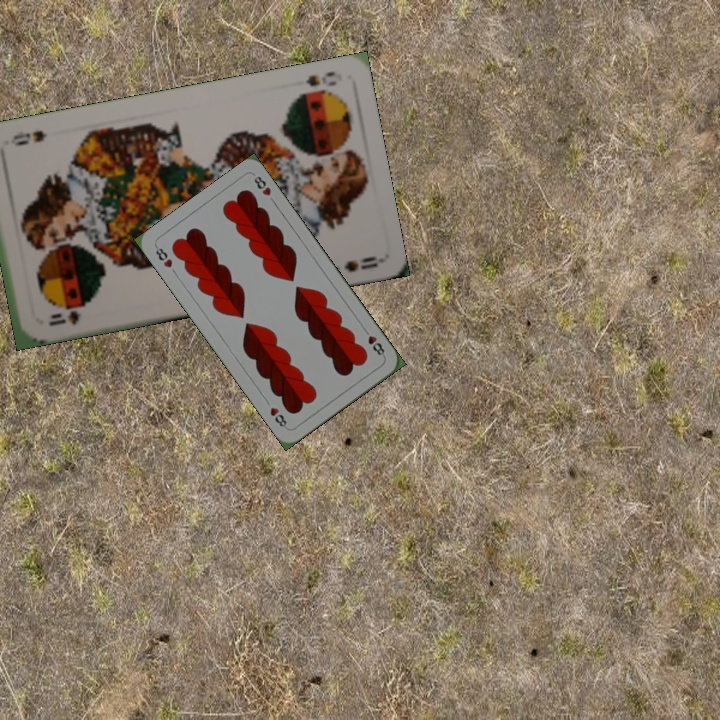H8: (359, 324, 387, 360), (151, 242, 175, 270)
SO: (45, 301, 89, 328), (302, 67, 339, 89)
